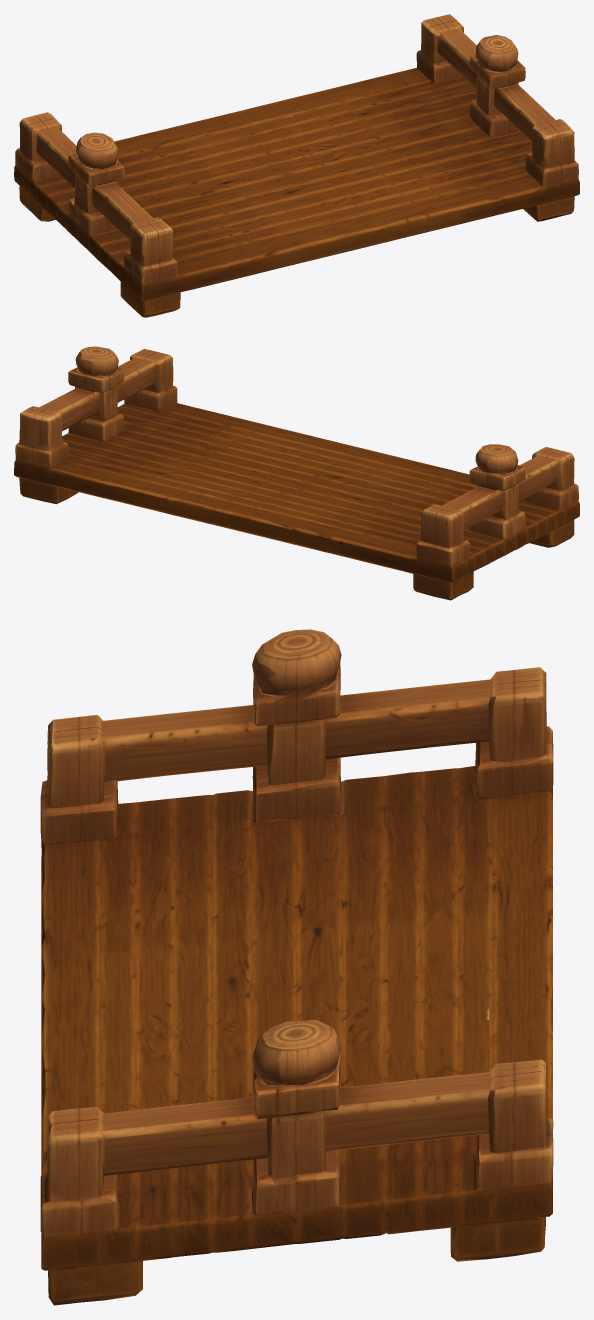
The model's file is bridge_abutment.glb.
3 views of the same model, one above another, from view 1: azimuth 30°, elevation 25°; view 2: azimuth 150°, elevation 25°; view 3: azimuth 270°, elevation 25° (orthographic). The views are drawn at different scales.
Parts seen in each view (by area): view 1: bridge_abutment; view 2: bridge_abutment; view 3: bridge_abutment.
Part boxes in pixels (<box>): bridge_abutment: <box>14,14,579,317</box>; bridge_abutment: <box>14,346,579,600</box>; bridge_abutment: <box>40,629,553,1305</box>.
Bounding box in the file's own units: 1 × 0.2852 × 0.5068.
1 material, 1 textured.
